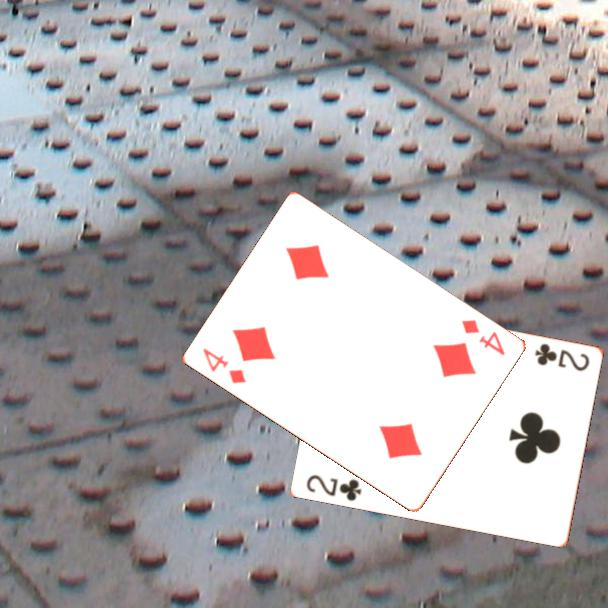c02: (532, 340, 593, 374), (303, 471, 365, 504)
d04: (458, 316, 508, 359), (200, 344, 250, 387)
